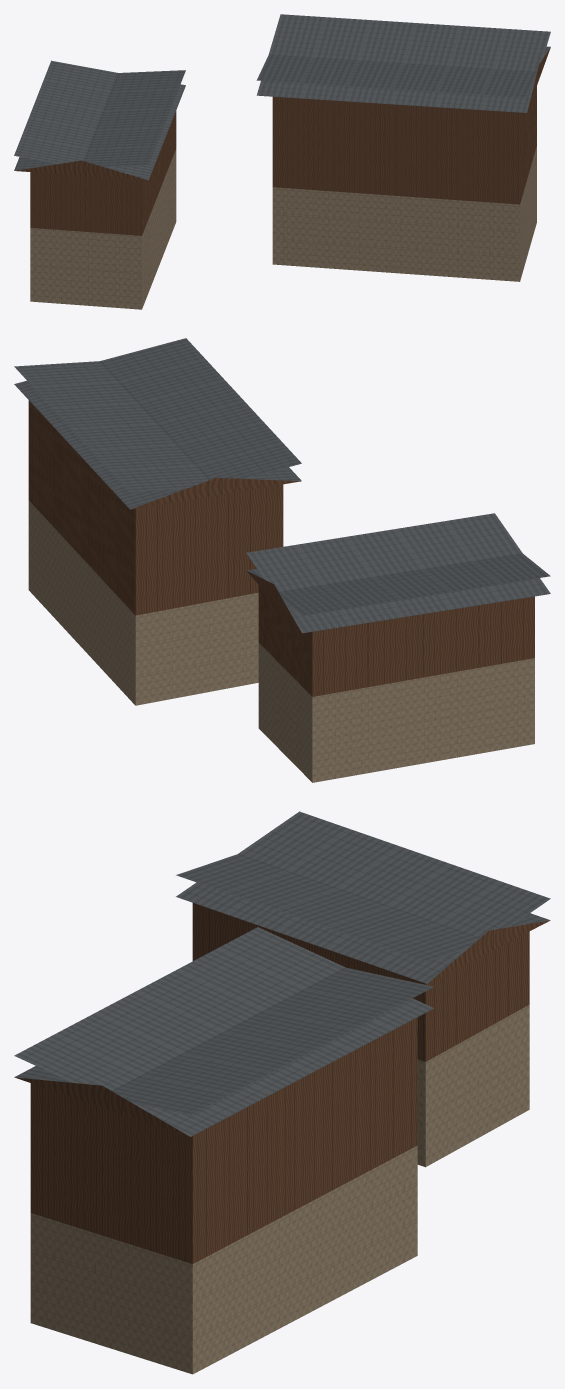
Rendered from bld_c-3_-54_758.gltf.
The picture shows the model from 3 angles, top to bottom: view 1: azimuth 30°, elevation 25°; view 2: azimuth 150°, elevation 25°; view 3: azimuth 270°, elevation 25°; orthographic projection. The views are drawn at different scales.
Visible parts, largest first — view 1: bld_c-3_-54_758; view 2: bld_c-3_-54_758; view 3: bld_c-3_-54_758.
Boxes of the visible parts, bbox=[...] form: bld_c-3_-54_758: bbox=[14, 14, 550, 309]; bld_c-3_-54_758: bbox=[14, 338, 550, 782]; bld_c-3_-54_758: bbox=[14, 811, 550, 1374].
Size of the model in its own units: 34.44 by 12.4 by 22.5.
4 materials, 4 textured.
